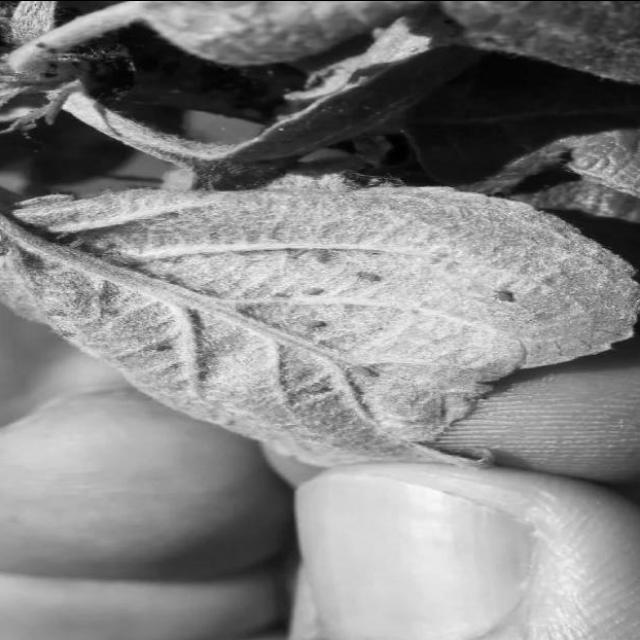Aphids: (266, 344, 394, 398), (290, 264, 384, 302), (286, 302, 328, 336), (474, 280, 524, 308)
